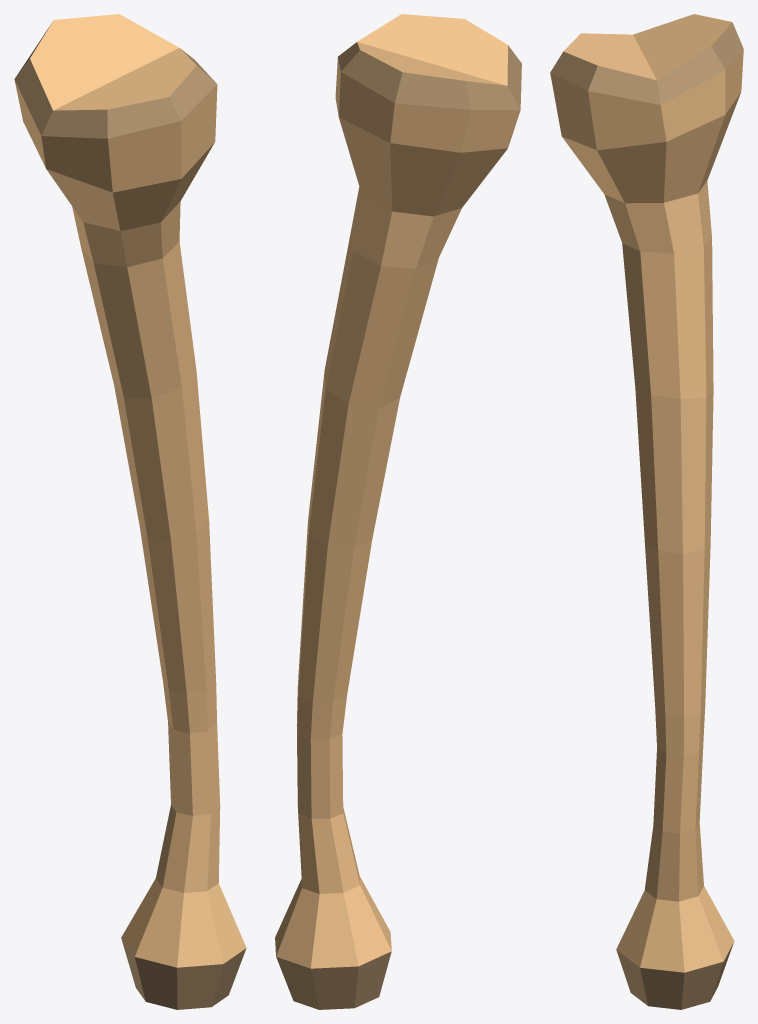
The model's file is WF_LP_HT_Props_Bone.002.fbx.
The picture shows the model from 3 angles, left to right: view 1: azimuth 30°, elevation 25°; view 2: azimuth 150°, elevation 25°; view 3: azimuth 270°, elevation 25°; orthographic projection. The views are drawn at different scales.
Parts seen in each view (by area): view 1: WF_LP_HT_Props_Bone.002; view 2: WF_LP_HT_Props_Bone.002; view 3: WF_LP_HT_Props_Bone.002.
Part boxes in pixels (<box>): WF_LP_HT_Props_Bone.002: <box>14,14,246,1009</box>; WF_LP_HT_Props_Bone.002: <box>275,14,521,1009</box>; WF_LP_HT_Props_Bone.002: <box>550,14,743,1009</box>.
Bounding box in the file's own units: 0.1771 × 0.7521 × 0.1427.
